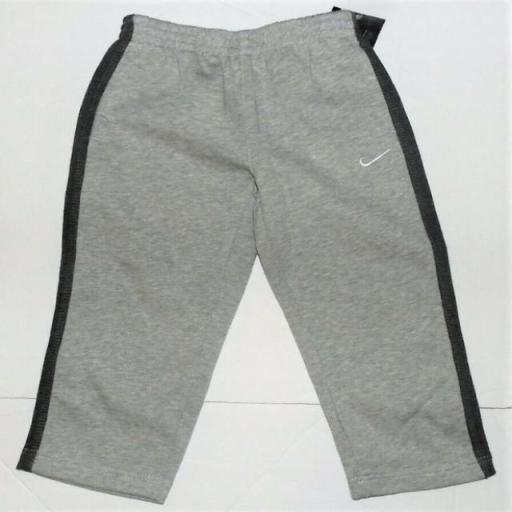Nike: (348, 148, 397, 168)
